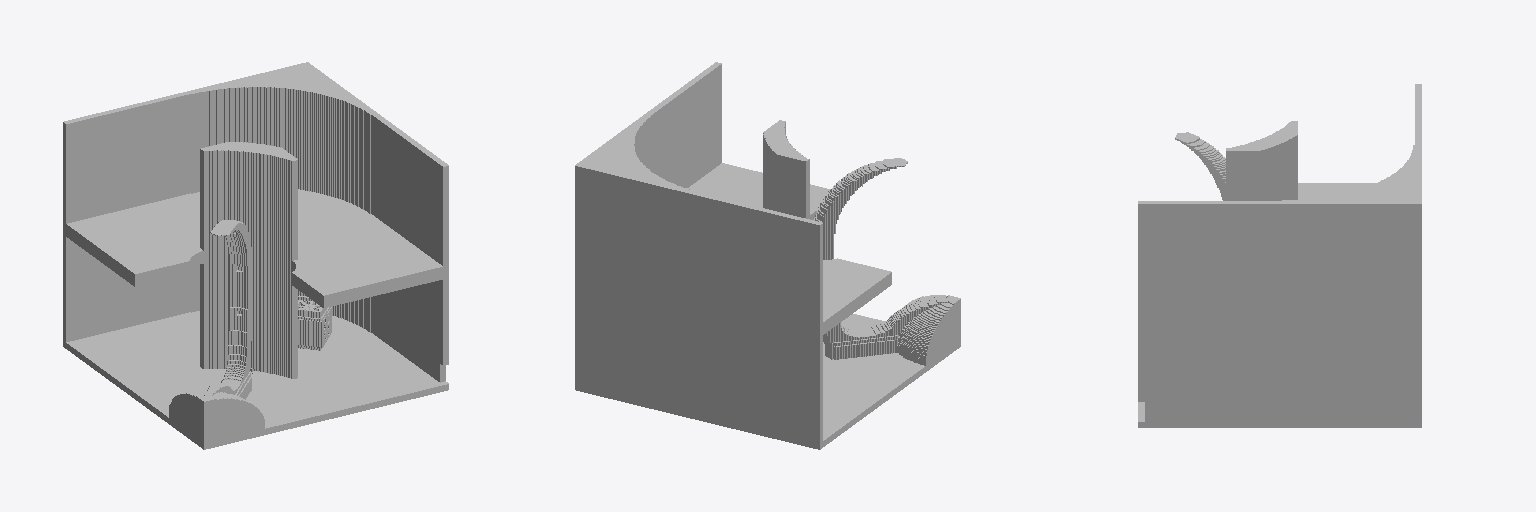
Rendered from OLD_FinalRoom.obj.
3 views of the same model, side by side, from view 1: azimuth 30°, elevation 25°; view 2: azimuth 150°, elevation 25°; view 3: azimuth 270°, elevation 25° (orthographic).
Parts seen in each view (by area): view 1: object 1; view 2: object 1; view 3: object 1.
Part boxes in pixels (x1,y1,x2,y2): object 1: (63,62,448,449); object 1: (575,62,960,449); object 1: (1138,84,1421,427).
Bounding box in the file's own units: 24 × 21 × 24.